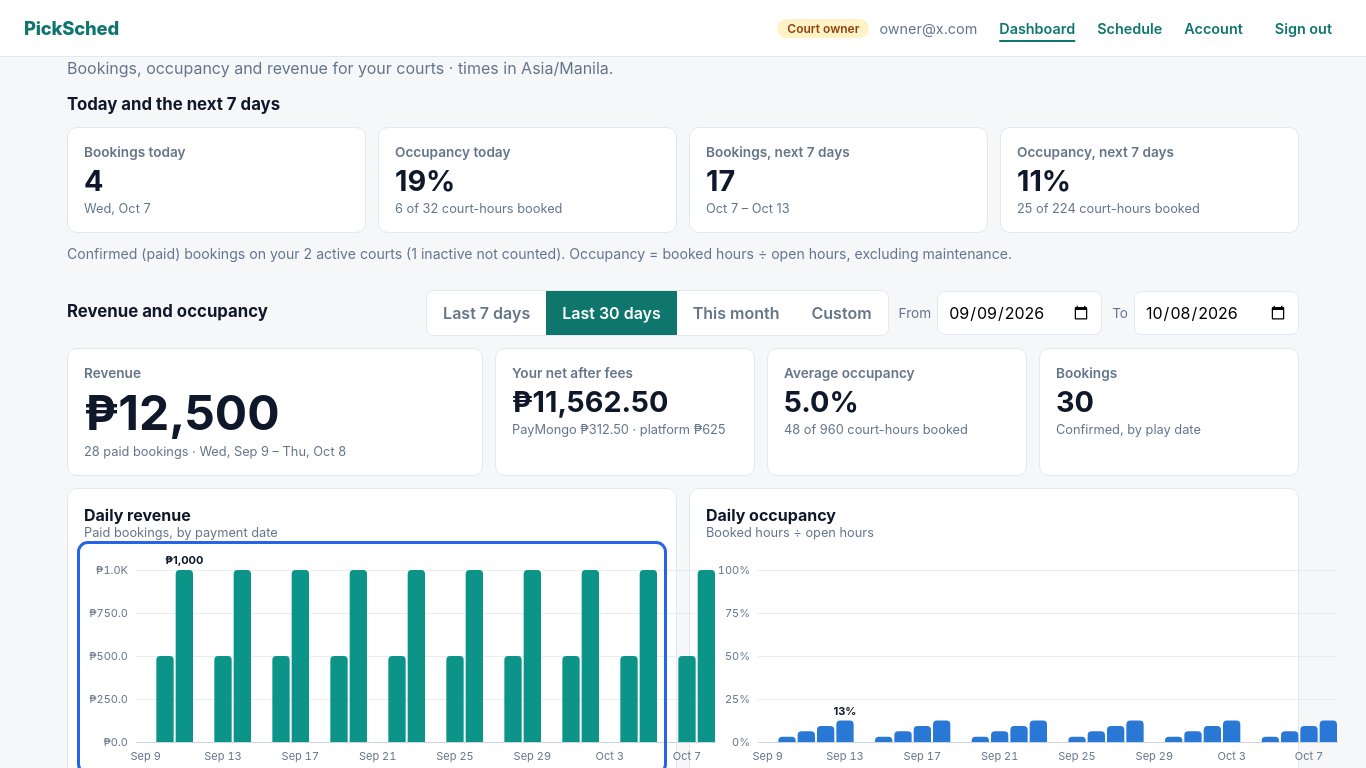
Test: metrics › draws both trend charts with a readable tooltip and a data table
The width and height of the screenshot is (1366, 768).
(page scrolled)
expect the picture named "Daily occupancy column chart" is shown: met, box [706, 548, 1282, 767]
Press ArrowRight in the picture named "Daily revenue column chart", box [84, 548, 660, 767]
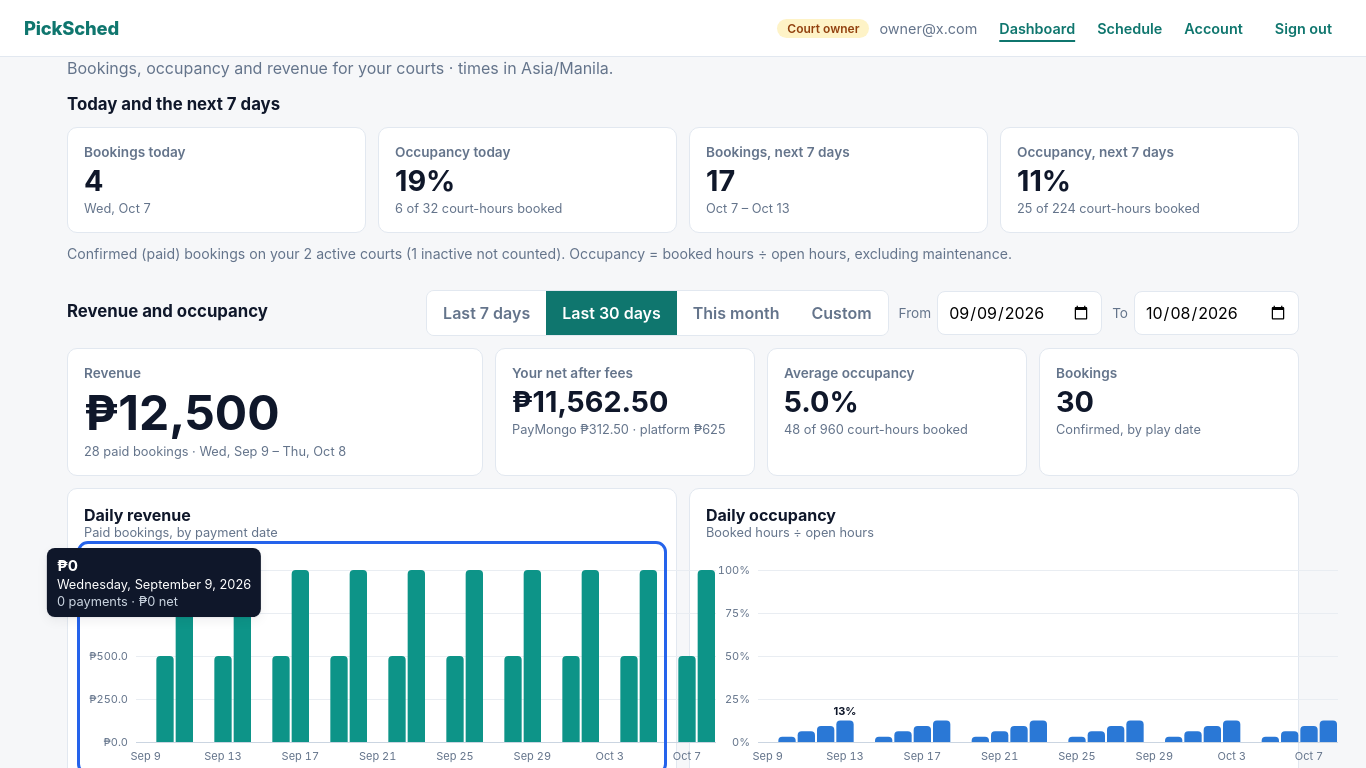
Press ArrowRight in the picture named "Daily revenue column chart", box [84, 548, 660, 767]
(page scrolled)
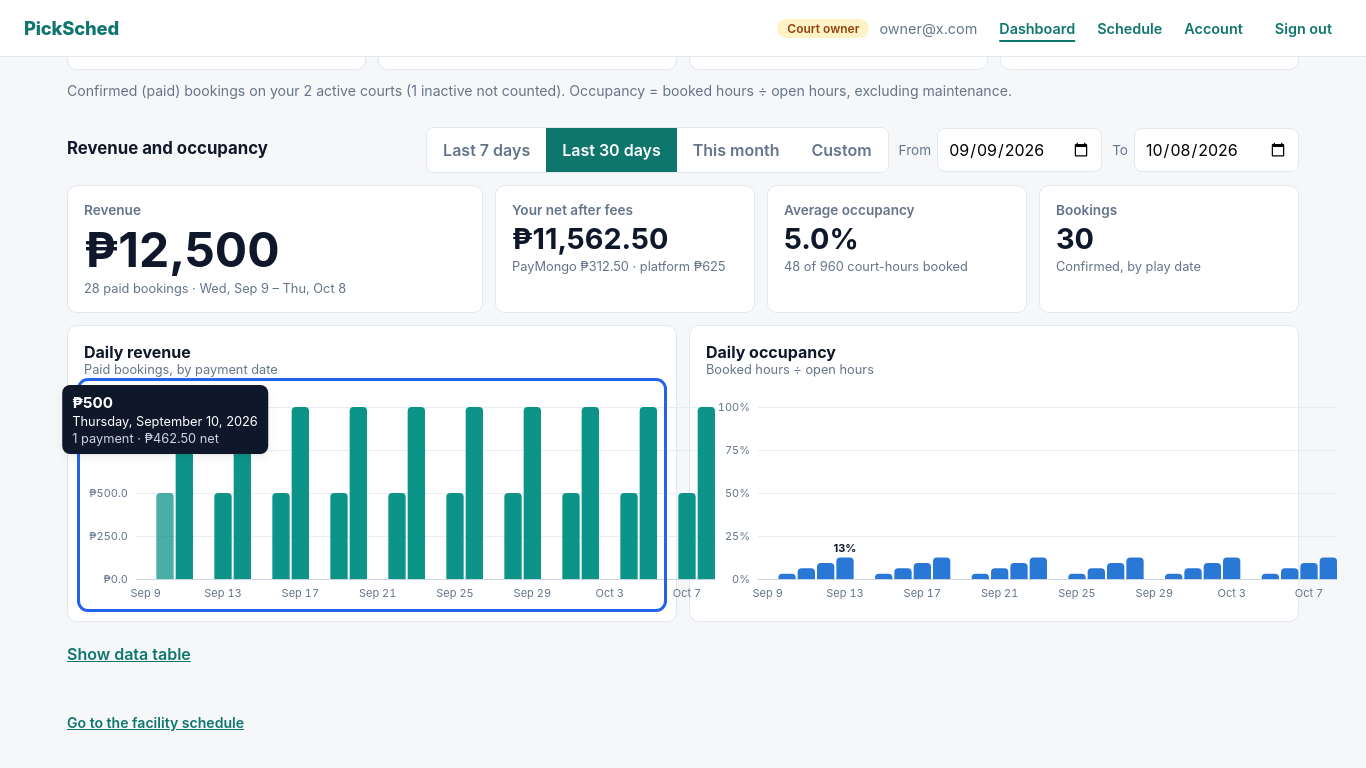
expect the message shows "₱500": met, box [72, 393, 113, 412]
Click the button "Show data table" at (129, 654), box [67, 632, 191, 676]
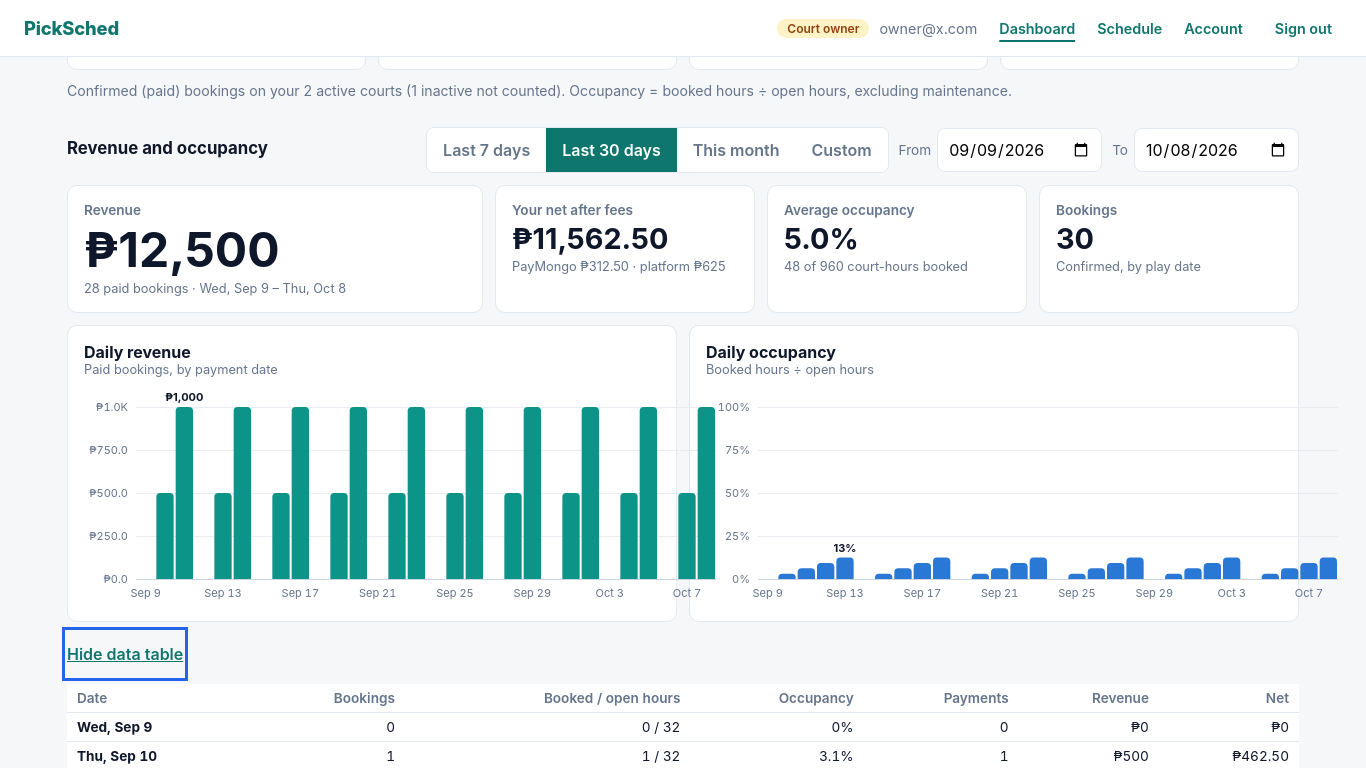
expect the number of rows is 31: met
